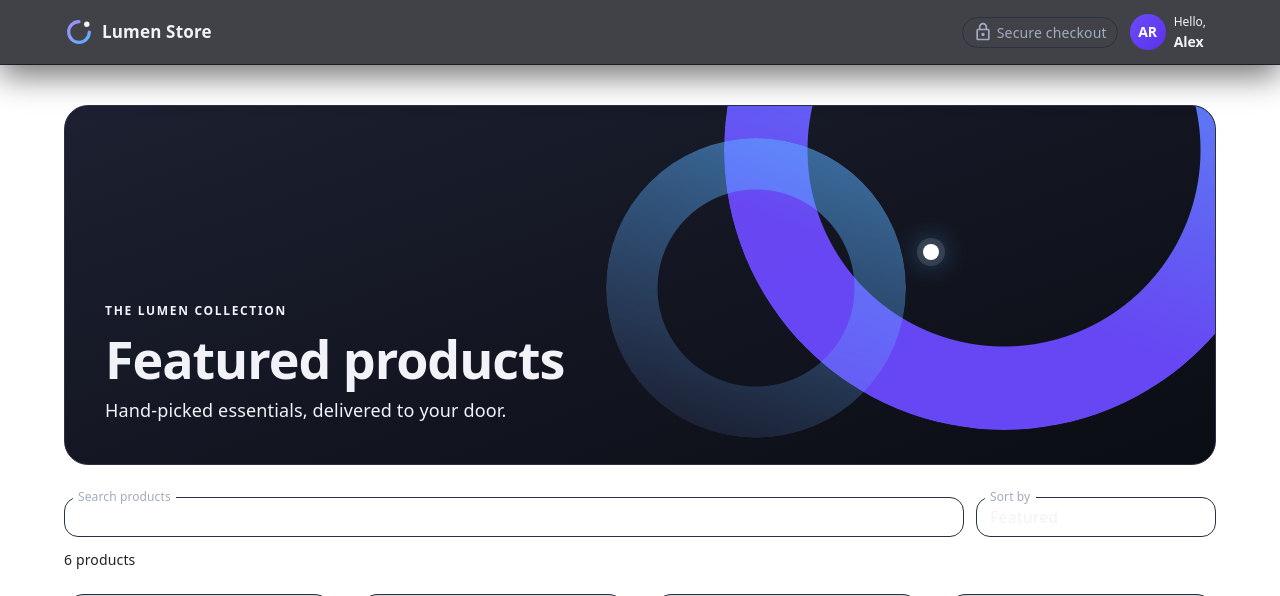
Test case: account menu › AC-1: choosing a destination goes there and closes the menu
The width and height of the screenshot is (1280, 596).
Click the button with aria-label "Account": (1171, 32) [1126,8,1216,56]
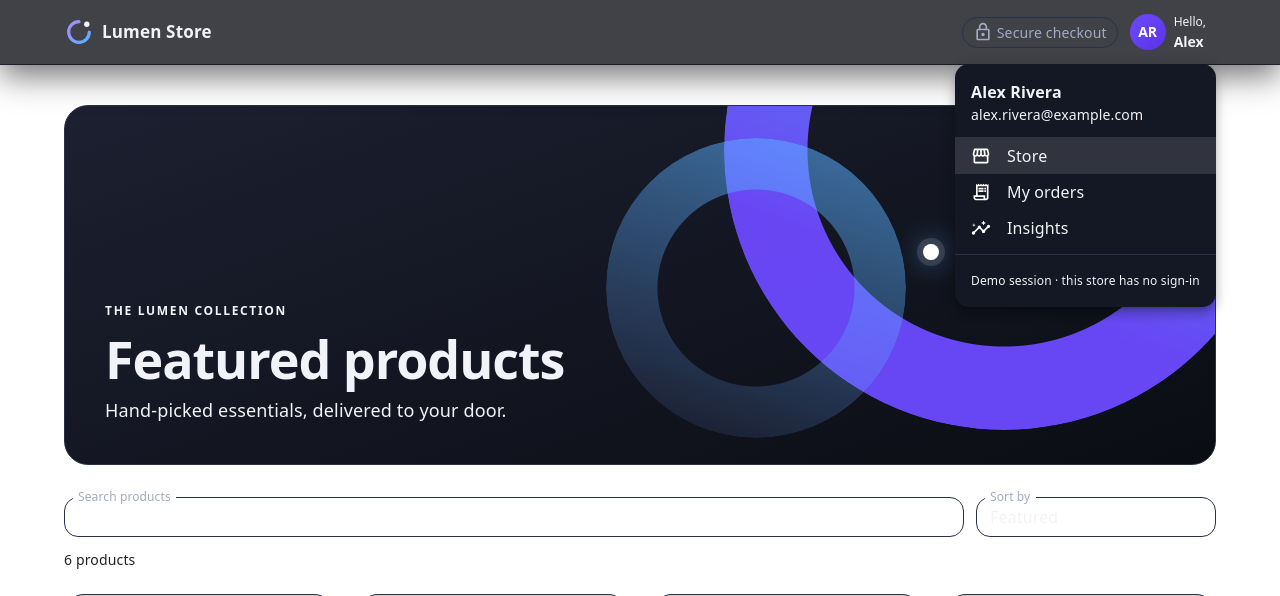
Click the menu item "My orders": (1028, 192) [971,181,1084,203]
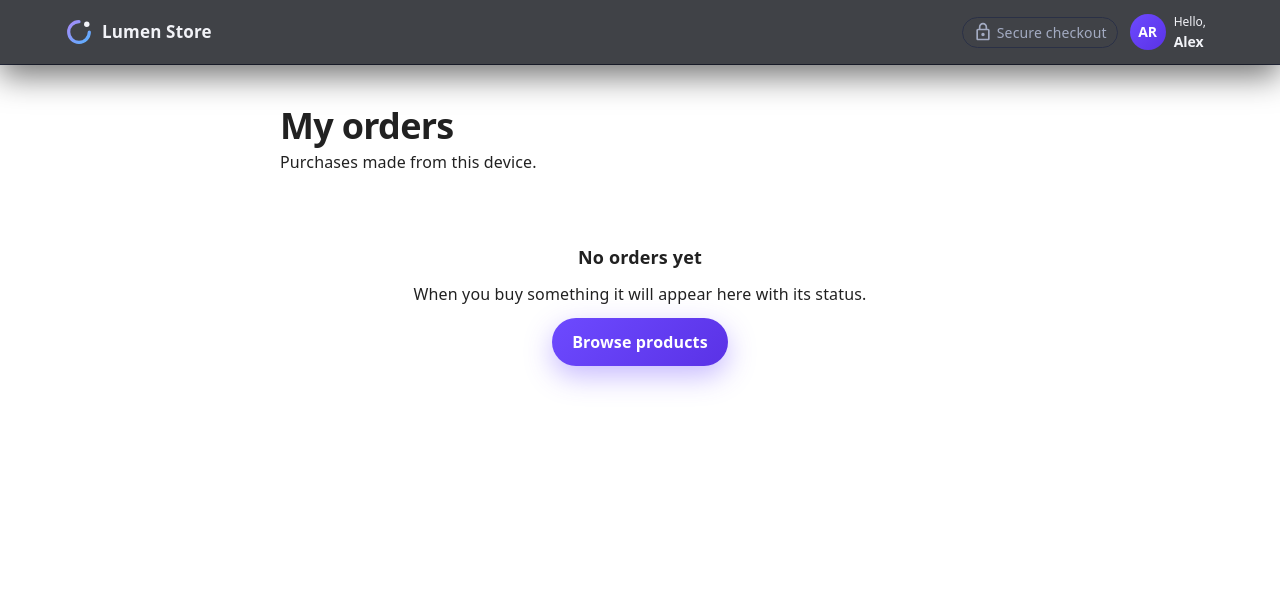
Expected: the heading "My orders" is shown, [280,101,454,150]
Expected: the menu is gone
